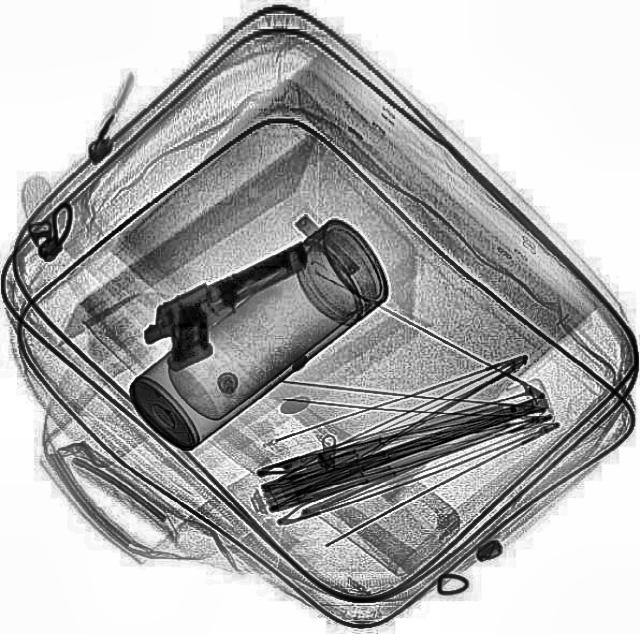Gun: (128, 237, 332, 375)
